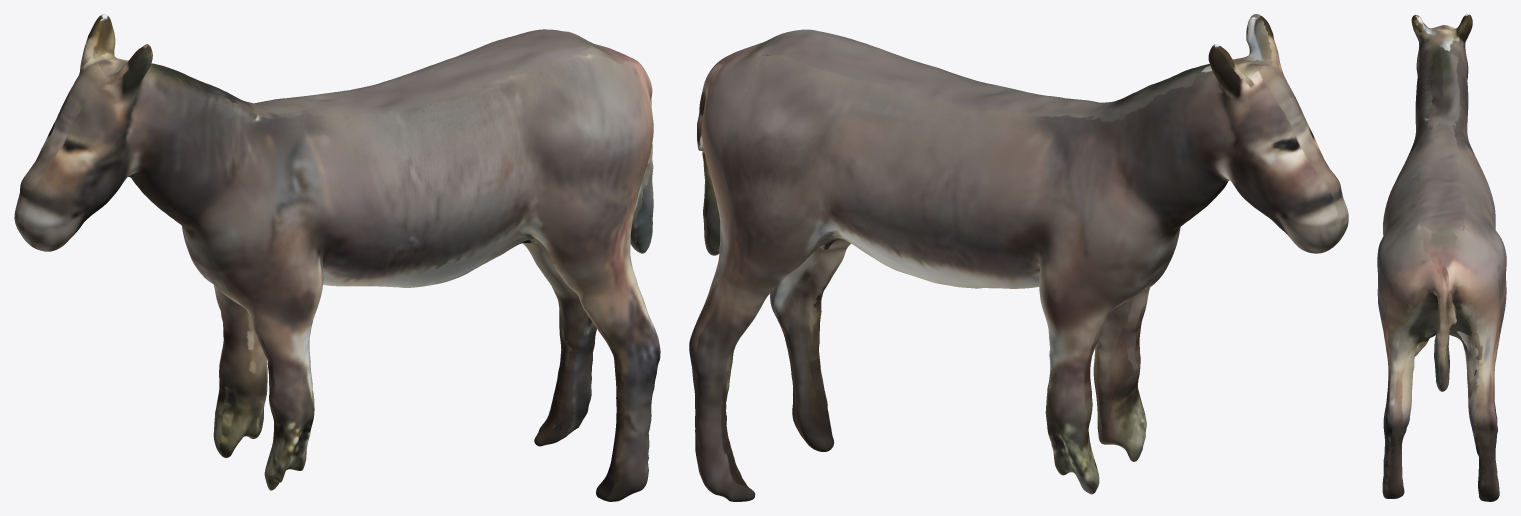
The model's file is adulto.glb.
3 renders of one model, left to right at view 1: azimuth 30°, elevation 25°; view 2: azimuth 150°, elevation 25°; view 3: azimuth 270°, elevation 25°, orthographic. The views are drawn at different scales.
Visible parts, largest first — view 1: mesh; view 2: mesh; view 3: mesh.
Boxes of the visible parts, <box> form: mesh: <box>14,14,660,501</box>; mesh: <box>689,14,1348,501</box>; mesh: <box>1377,14,1506,501</box>.
Bounding box in the file's own units: 1.67 × 1.39 × 0.4713.
1 material, 1 textured.
